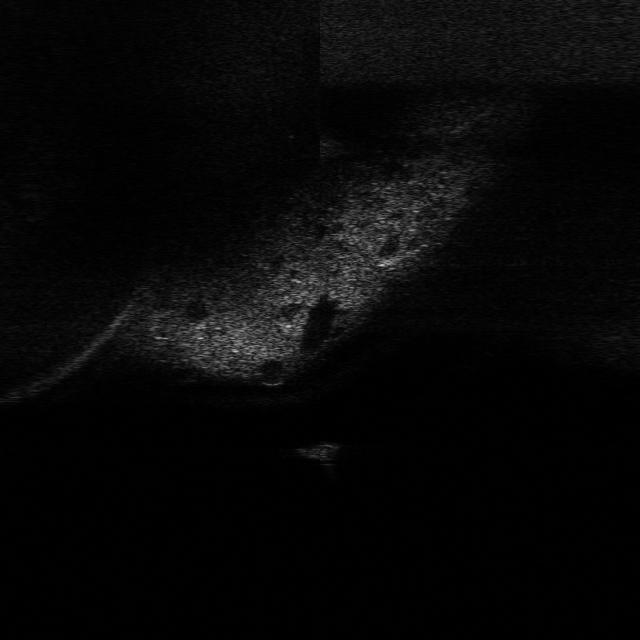cube: (284, 437, 346, 465)
